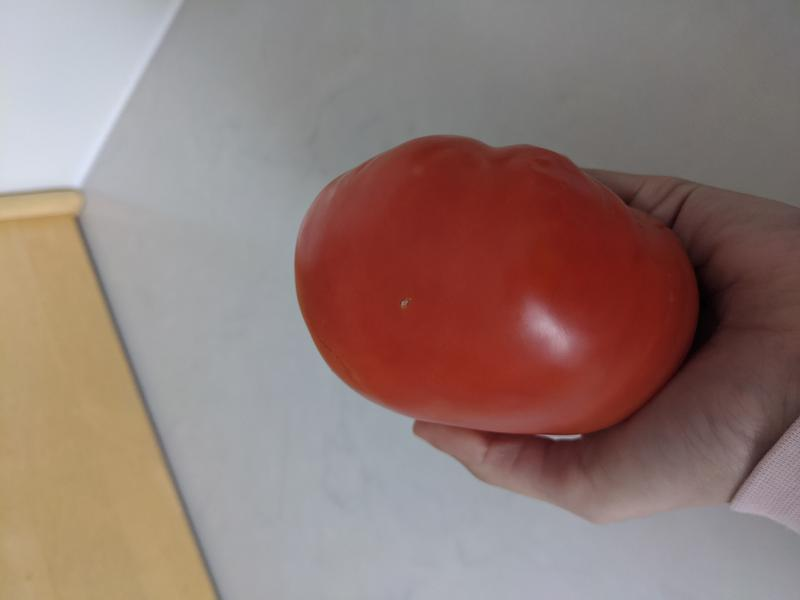tomato: (293, 134, 702, 436)
